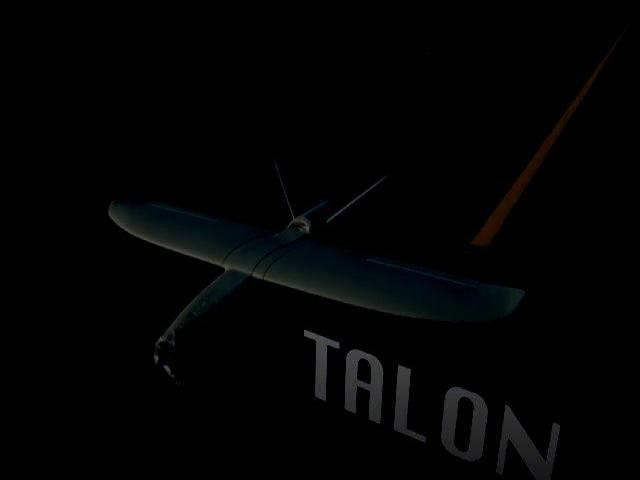iha: (104, 147, 537, 397)
